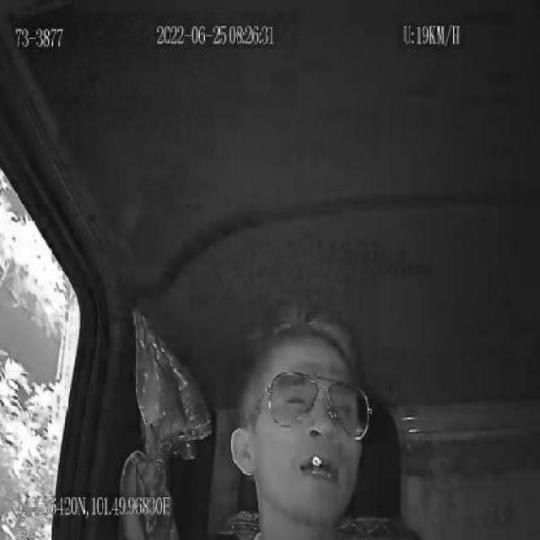smoking: (310, 451, 330, 484)
